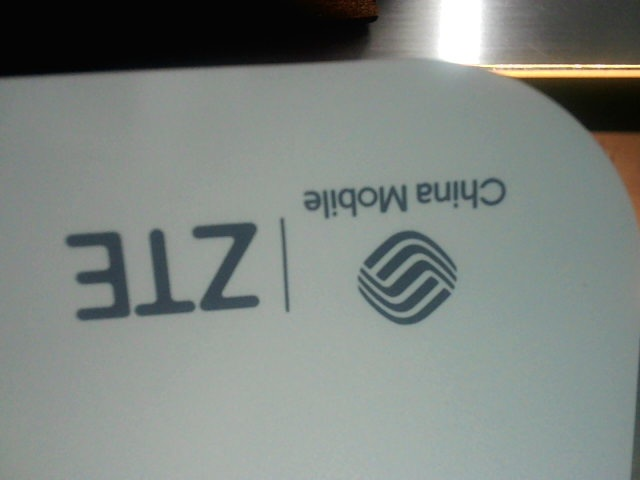AL_ZTEChinaMobile: (55, 168, 523, 335)
